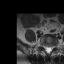CCS_normal: (47, 44, 49, 54)
LFS_normal: (52, 43, 55, 50)
LLS_normal: (49, 43, 52, 53)
RFS_normal: (42, 42, 45, 50)
RLS_normal: (45, 44, 47, 54)
